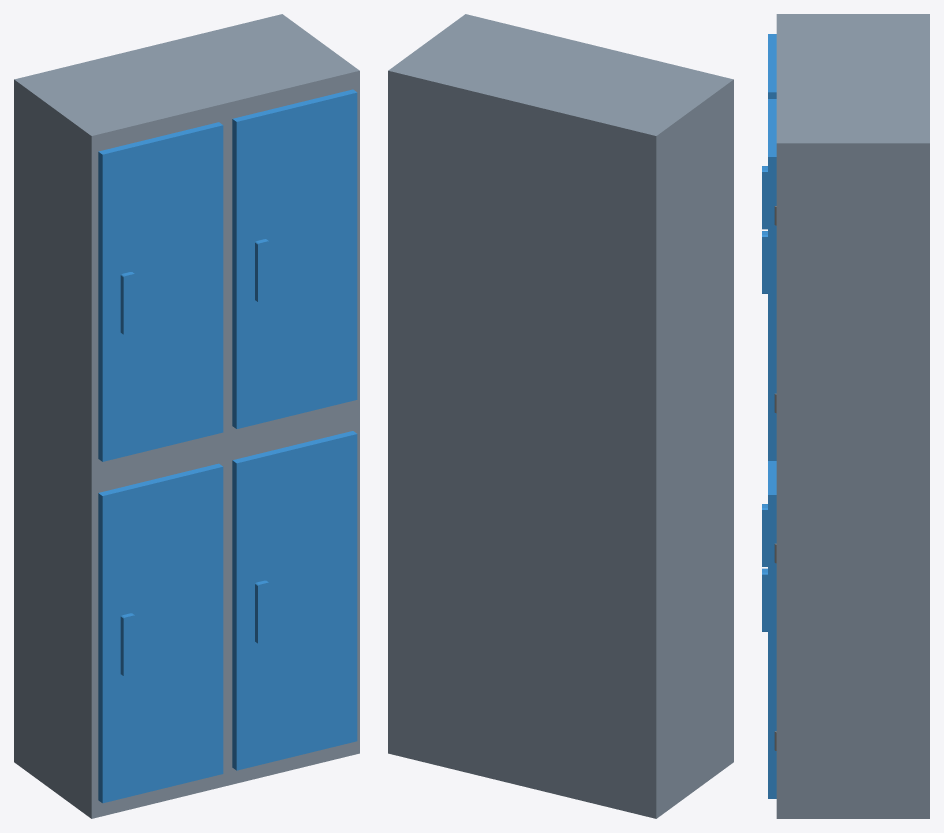
The picture shows the model from 3 angles, left to right: view 1: azimuth 30°, elevation 25°; view 2: azimuth 150°, elevation 25°; view 3: azimuth 270°, elevation 25°; orthographic projection.
Visible parts, largest first — view 1: MA-24; view 2: MA-24; view 3: MA-24.
Boxes of the visible parts, bbox=[...] form: MA-24: bbox=[14, 14, 359, 818]; MA-24: bbox=[388, 14, 733, 818]; MA-24: bbox=[762, 14, 929, 818].
Size of the model in its own units: 74 by 180 by 40.5.
